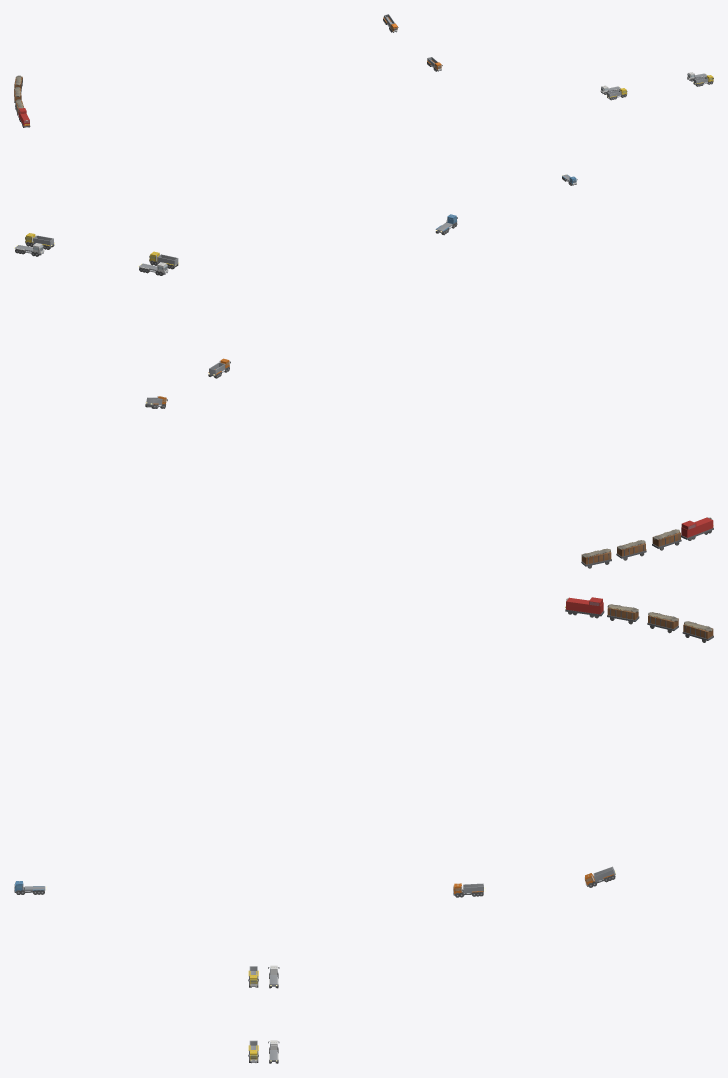
The model's file is Vehicles_P1.fbx.
The picture shows the model from 3 angles, top to bottom: view 1: azimuth 30°, elevation 25°; view 2: azimuth 150°, elevation 25°; view 3: azimuth 270°, elevation 25°; orthographic projection. The views are drawn at different scales.
Size of the model in its own units: 26074 by 1304 by 18064.
